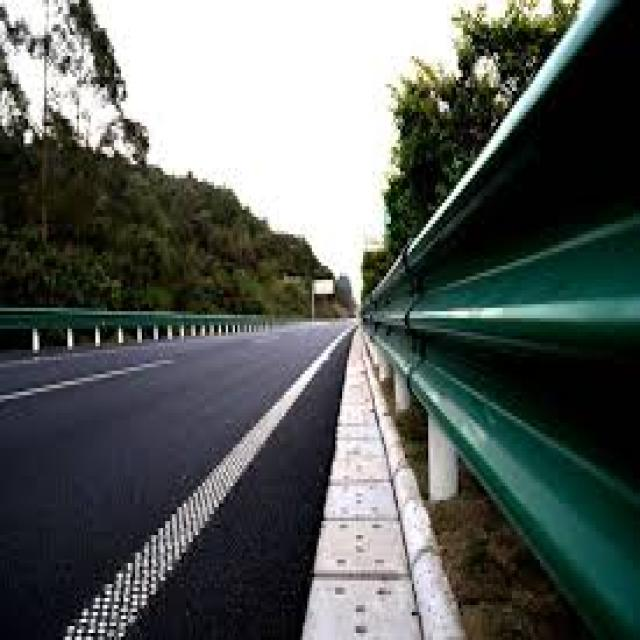Guard rail: (364, 0, 640, 636)
